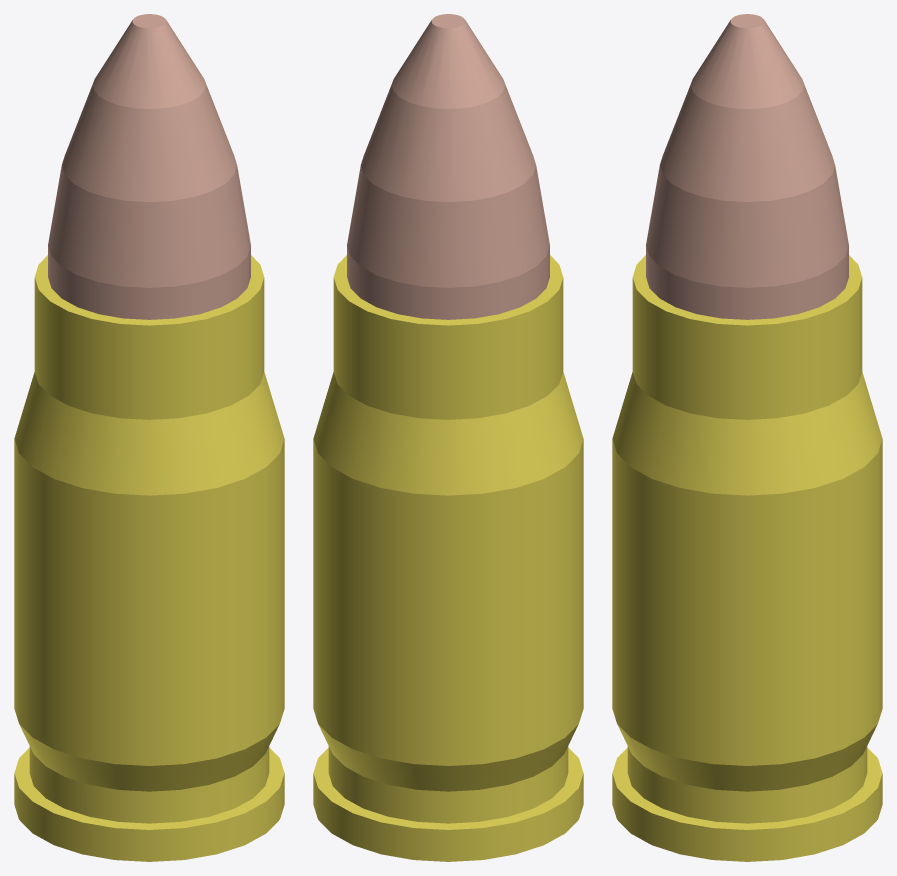
The model's file is ammo_machinegun.glb.
3 renders of one model, left to right at view 1: azimuth 30°, elevation 25°; view 2: azimuth 150°, elevation 25°; view 3: azimuth 270°, elevation 25°, orthographic.
Parts seen in each view (by area): view 1: Mesh1 Group2 Group1 Model, Mesh2 Group3 Group1 Model; view 2: Mesh1 Group2 Group1 Model, Mesh2 Group3 Group1 Model; view 3: Mesh1 Group2 Group1 Model, Mesh2 Group3 Group1 Model.
Part boxes in pixels (x1,y1,x2,y2): Mesh1 Group2 Group1 Model: (14, 255, 284, 861); Mesh2 Group3 Group1 Model: (48, 14, 250, 319); Mesh1 Group2 Group1 Model: (313, 255, 583, 861); Mesh2 Group3 Group1 Model: (347, 14, 549, 319); Mesh1 Group2 Group1 Model: (612, 255, 882, 861); Mesh2 Group3 Group1 Model: (646, 14, 848, 319).
Size of the model in its own units: 0.00459 by 0.0147 by 0.00459.
